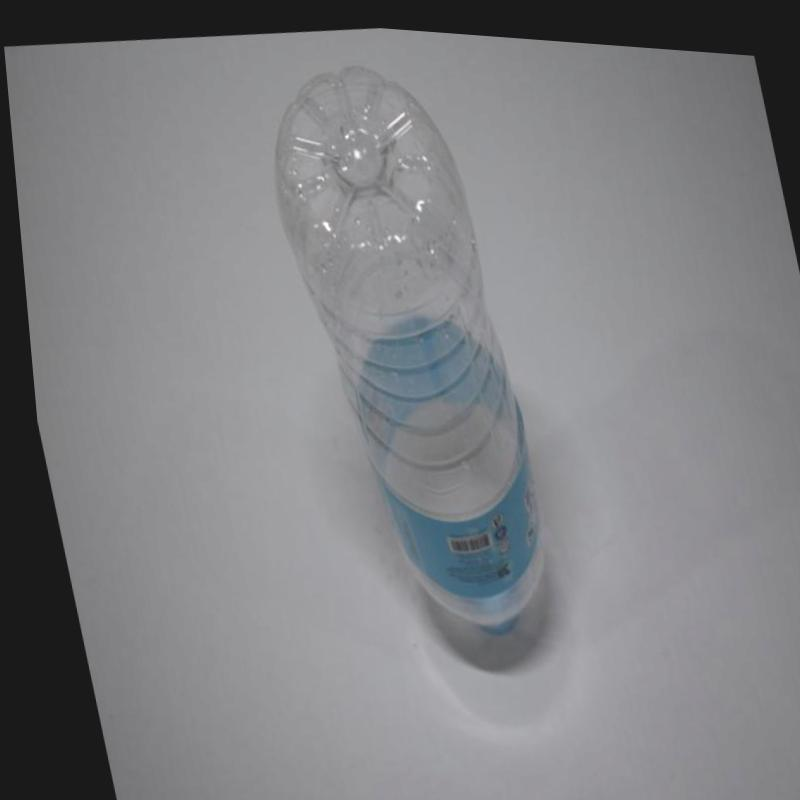botella: (242, 45, 560, 653)
